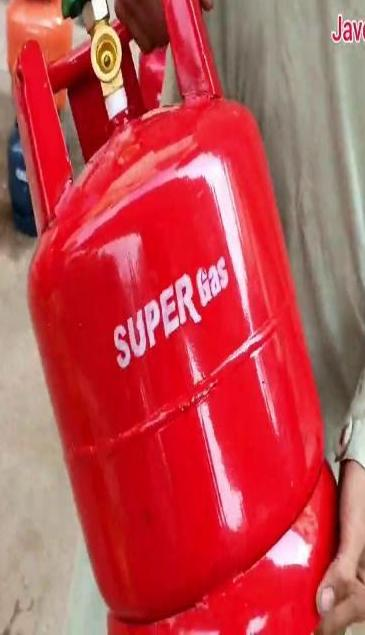cylinder: (1, 1, 365, 635)
